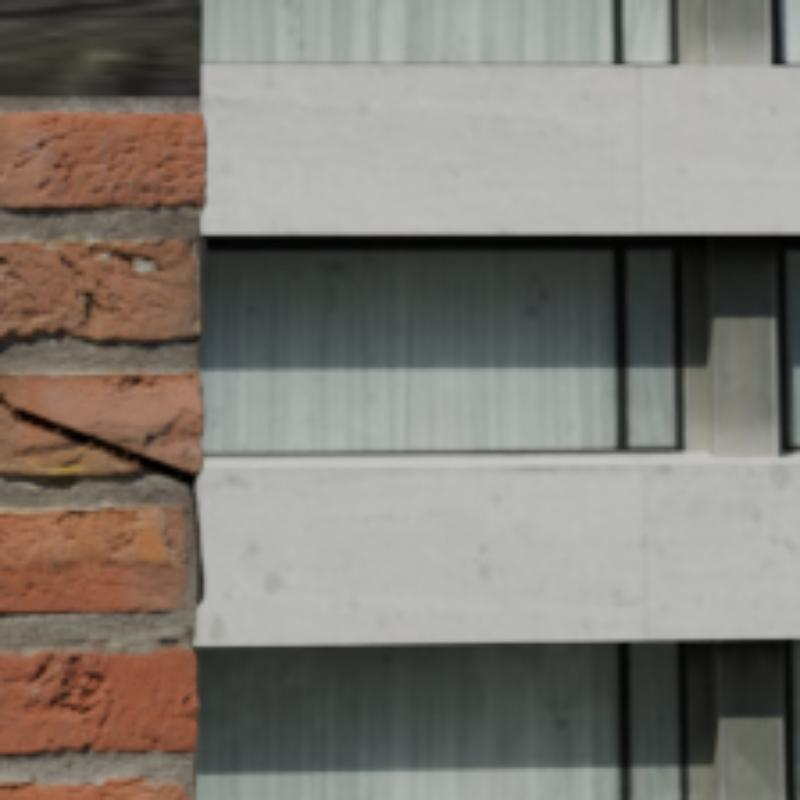crack: (0, 394, 193, 487)
